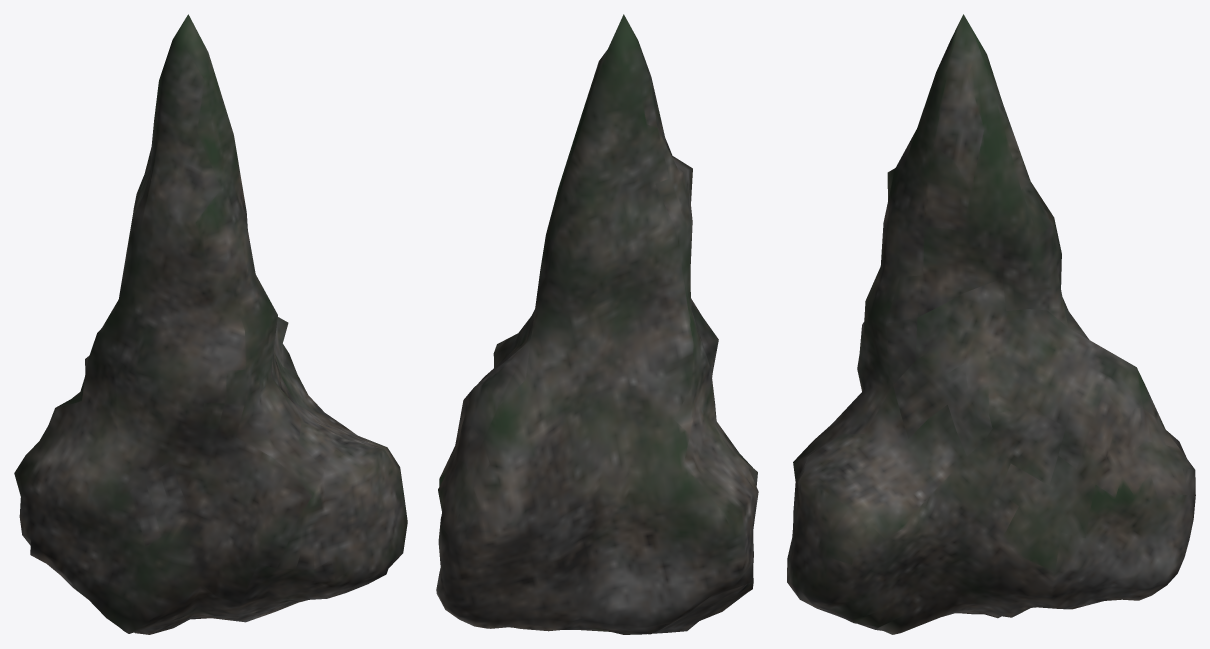
The model's file is Estalactite 3.fbx.
3 renders of one model, left to right at view 1: azimuth 30°, elevation 25°; view 2: azimuth 150°, elevation 25°; view 3: azimuth 270°, elevation 25°, orthographic.
Visible parts, largest first — view 1: rock.003; view 2: rock.003; view 3: rock.003.
Boxes of the visible parts, x1=… form: rock.003: x1=14, y1=14, x2=407, y2=634; rock.003: x1=436, y1=14, x2=758, y2=634; rock.003: x1=787, y1=14, x2=1195, y2=634.
Size of the model in its own units: 88.01 by 167 by 103.
Materials: 1 (1 with a texture image).
